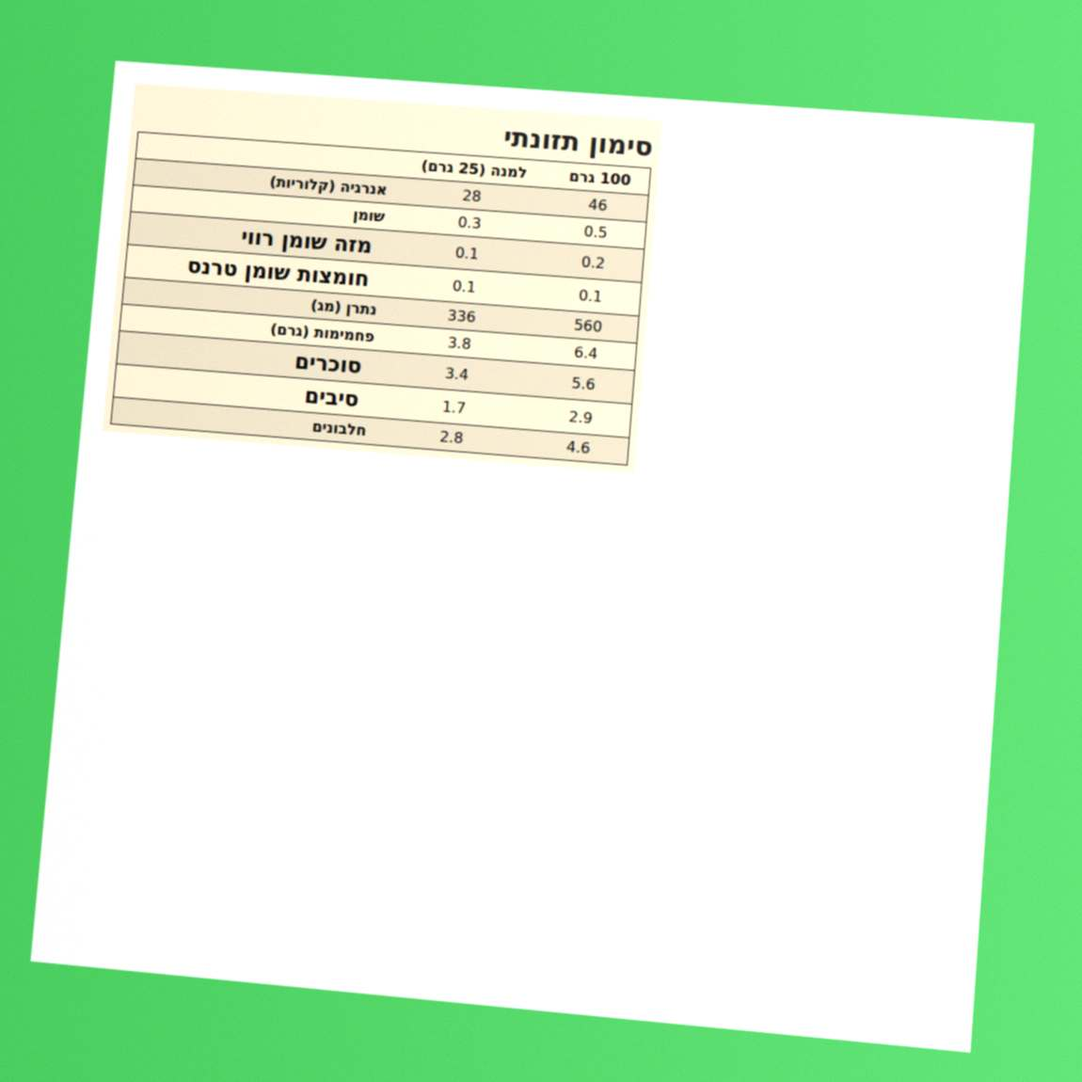carbs: (571, 341, 601, 365)
energy: (585, 194, 610, 217)
fat: (581, 220, 610, 244)
protein: (563, 436, 593, 459)
